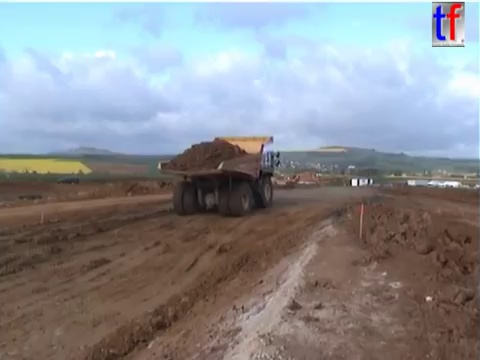truck: (155, 135, 283, 216)
